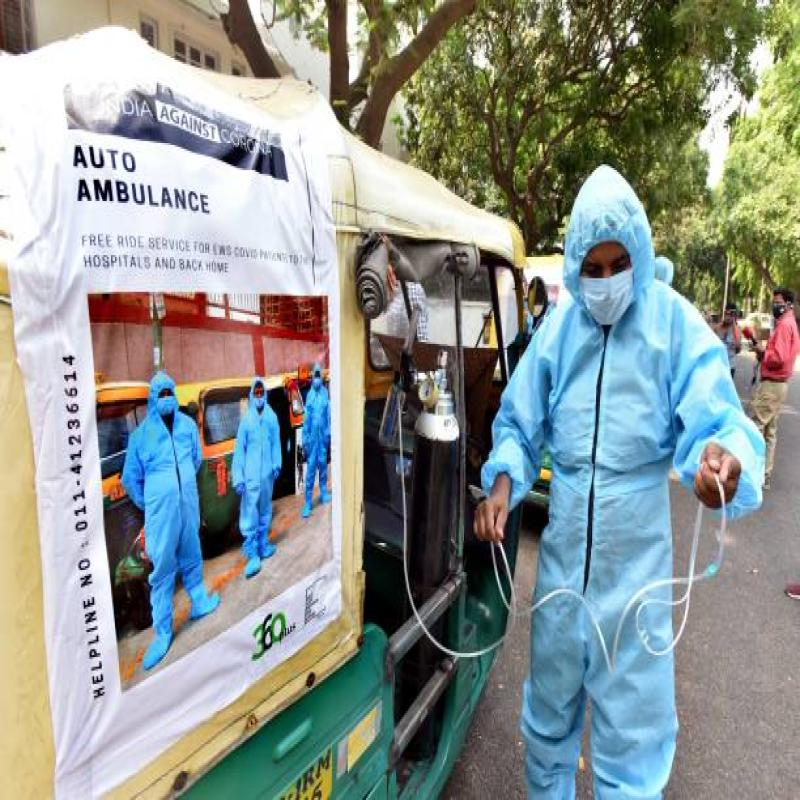ambulance: (4, 12, 366, 800)
